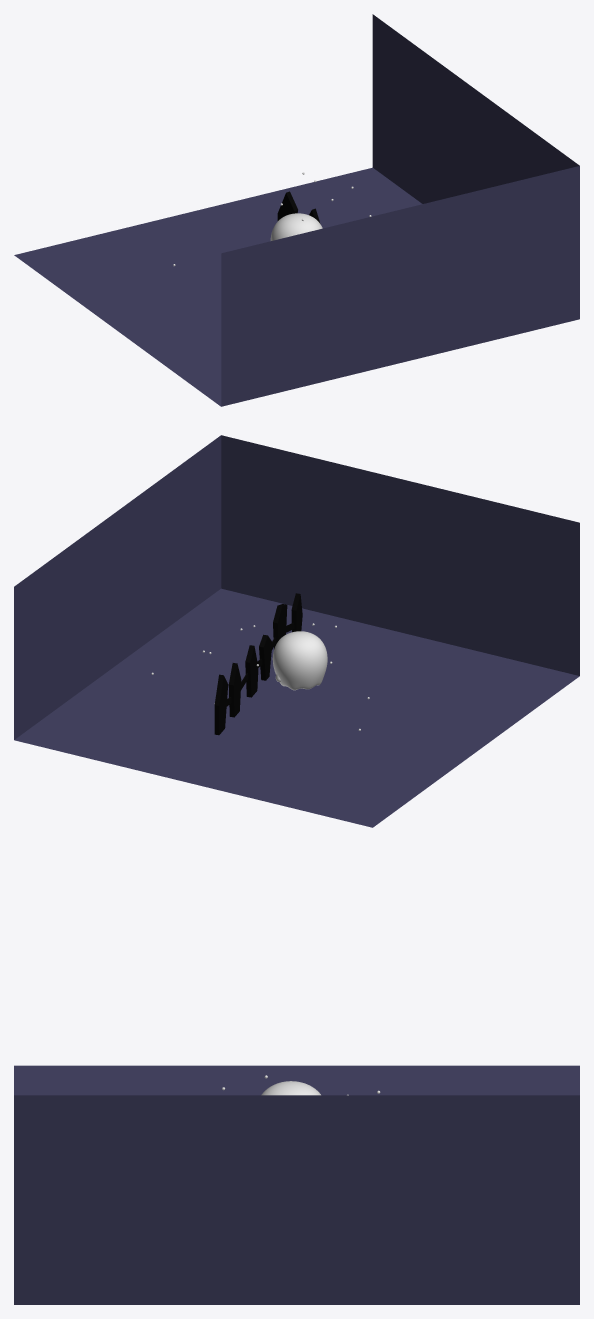
File: Ghost.fbx
3 views of the same model, one above another, from view 1: azimuth 30°, elevation 25°; view 2: azimuth 150°, elevation 25°; view 3: azimuth 270°, elevation 25° (orthographic). The views are drawn at different scales.
Visible parts, largest first — view 1: Ground, Outline; view 2: Ground, Fence, Outline; view 3: Ground, Outline.
Part boxes in pixels (bbox=[...]): Ground: bbox=[14, 14, 579, 406]; Outline: bbox=[270, 213, 322, 240]; Ground: bbox=[14, 435, 579, 827]; Fence: bbox=[214, 593, 302, 735]; Outline: bbox=[272, 631, 327, 690]; Ground: bbox=[14, 1065, 579, 1304]; Outline: bbox=[261, 1081, 320, 1095].
Size of the model in its own units: 2105 by 861 by 2105.
